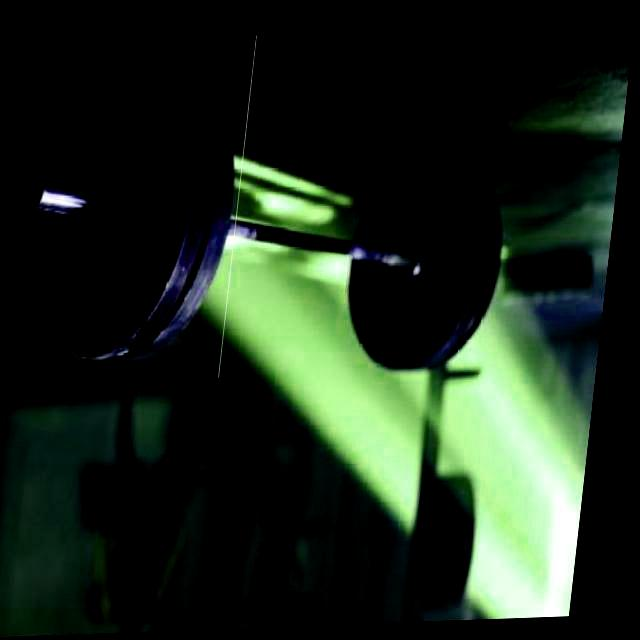barbell: (2, 37, 258, 387)
